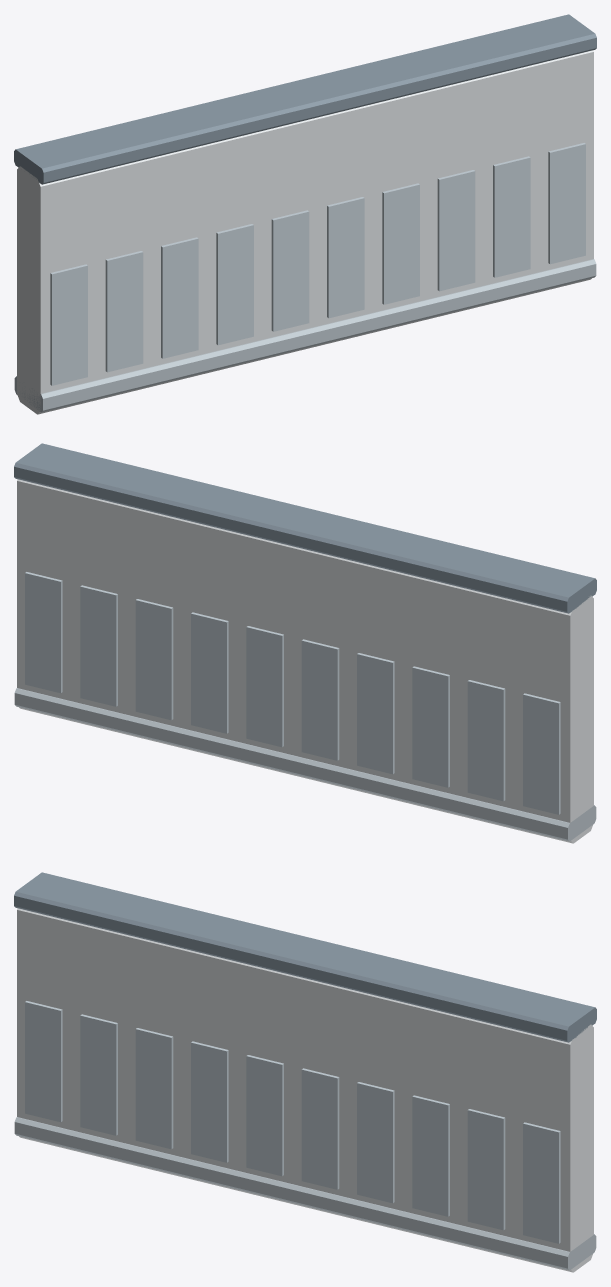
File: wall_school_media.glb
3 views of the same model, one above another, from view 1: azimuth 30°, elevation 25°; view 2: azimuth 150°, elevation 25°; view 3: azimuth 330°, elevation 25° (orthographic).
Parts seen in each view (by area): view 1: Part_001, Part_002, Part_003, Part_013, Part_007, Part_019, Part_005, Part_021, Part_009, Part_011, Part_015, Part_017 (+1 smaller); view 2: Part_001, Part_002, Part_003, Part_012, Part_006, Part_018, Part_004, Part_020, Part_008, Part_010, Part_014, Part_016 (+1 smaller); view 3: Part_001, Part_002, Part_003, Part_015, Part_021, Part_009, Part_007, Part_023, Part_005, Part_011, Part_013, Part_017 (+1 smaller).
Part boxes in pixels (x1,y1,x2,y2): Part_001: (17, 50, 593, 414); Part_002: (14, 14, 596, 184); Part_003: (14, 259, 596, 412); Part_013: (271, 210, 309, 331); Part_007: (105, 251, 143, 372); Part_019: (437, 170, 475, 291); Part_005: (50, 264, 87, 385); Part_021: (493, 156, 530, 277); Part_009: (161, 237, 198, 358); Part_011: (216, 224, 253, 345); Part_015: (327, 197, 364, 318); Part_017: (382, 183, 419, 304); Part_001: (17, 479, 593, 843); Part_002: (14, 443, 596, 613); Part_003: (14, 688, 596, 841); Part_012: (301, 639, 339, 760); Part_006: (467, 680, 505, 801); Part_018: (135, 599, 173, 720); Part_004: (523, 693, 560, 814); Part_020: (80, 585, 117, 706); Part_008: (412, 666, 449, 787); Part_010: (357, 653, 394, 774); Part_014: (246, 626, 283, 747); Part_016: (191, 612, 228, 733); Part_001: (17, 908, 593, 1272); Part_002: (14, 872, 596, 1042); Part_003: (14, 1117, 596, 1270); Part_015: (301, 1068, 339, 1189); Part_021: (467, 1109, 505, 1230); Part_009: (135, 1028, 173, 1149); Part_007: (80, 1014, 117, 1135); Part_023: (523, 1122, 560, 1243); Part_005: (25, 1001, 62, 1122); Part_011: (191, 1041, 228, 1162); Part_013: (246, 1055, 283, 1176); Part_017: (357, 1082, 394, 1203).
Size of the model in its own units: 2.7 by 1.16 by 0.25.
